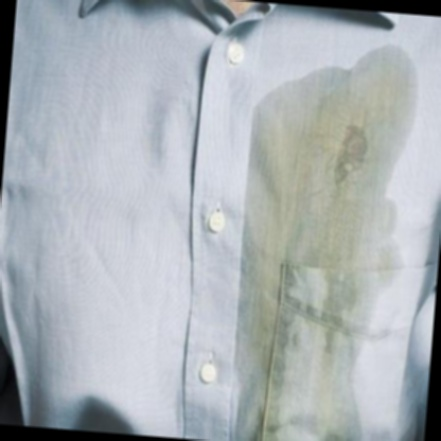coffee: (245, 79, 403, 277), (232, 270, 286, 441)
